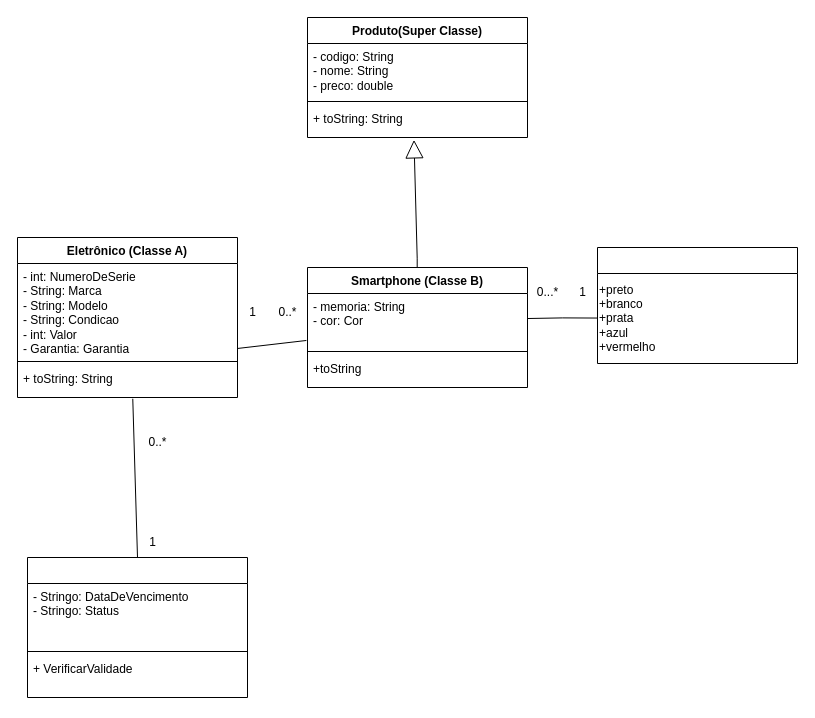
The diagram is 815 pixels wide and 718 high, and some of its shapes have lost their labels. The shapes that lost their labels are listed below. From the top down, each one's box as (x1, y1, x2, y2) in pixels, then its label:
(596, 246, 798, 364): Cor <<enum>>
(26, 556, 248, 698): Garantia (Classe C)
